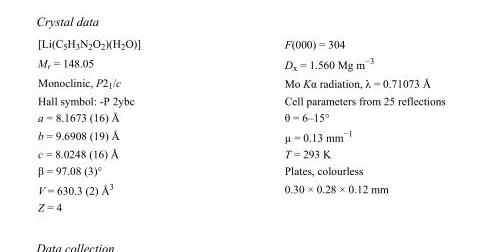table: (37, 36, 444, 212)
table column: (211, 36, 444, 212), (37, 36, 211, 212)
table row: (37, 52, 444, 73), (37, 125, 444, 145), (37, 178, 444, 198), (37, 73, 444, 91), (37, 91, 444, 108), (37, 108, 444, 125), (37, 161, 444, 178), (37, 36, 444, 52), (37, 145, 444, 161), (37, 198, 444, 212)
